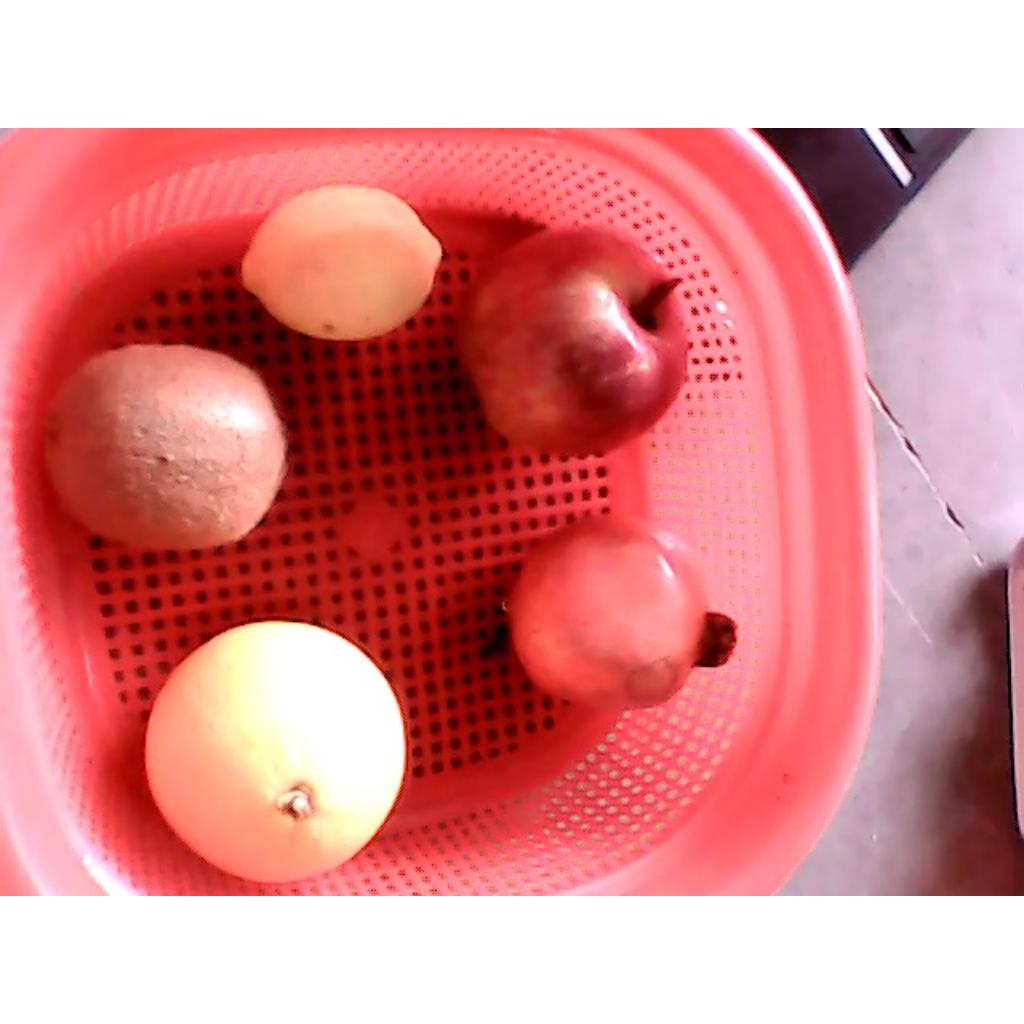apple: (452, 224, 693, 459)
kiwi: (39, 345, 285, 550)
lemon: (242, 183, 443, 342)
orange: (143, 622, 407, 885)
pomegranate: (499, 514, 739, 710)
